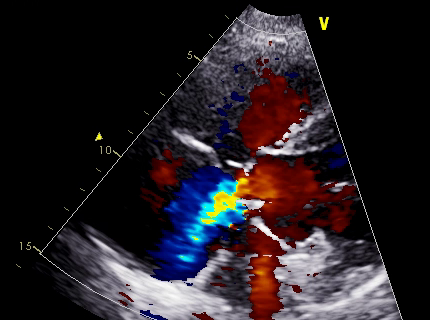TR: (201, 134, 261, 220)
